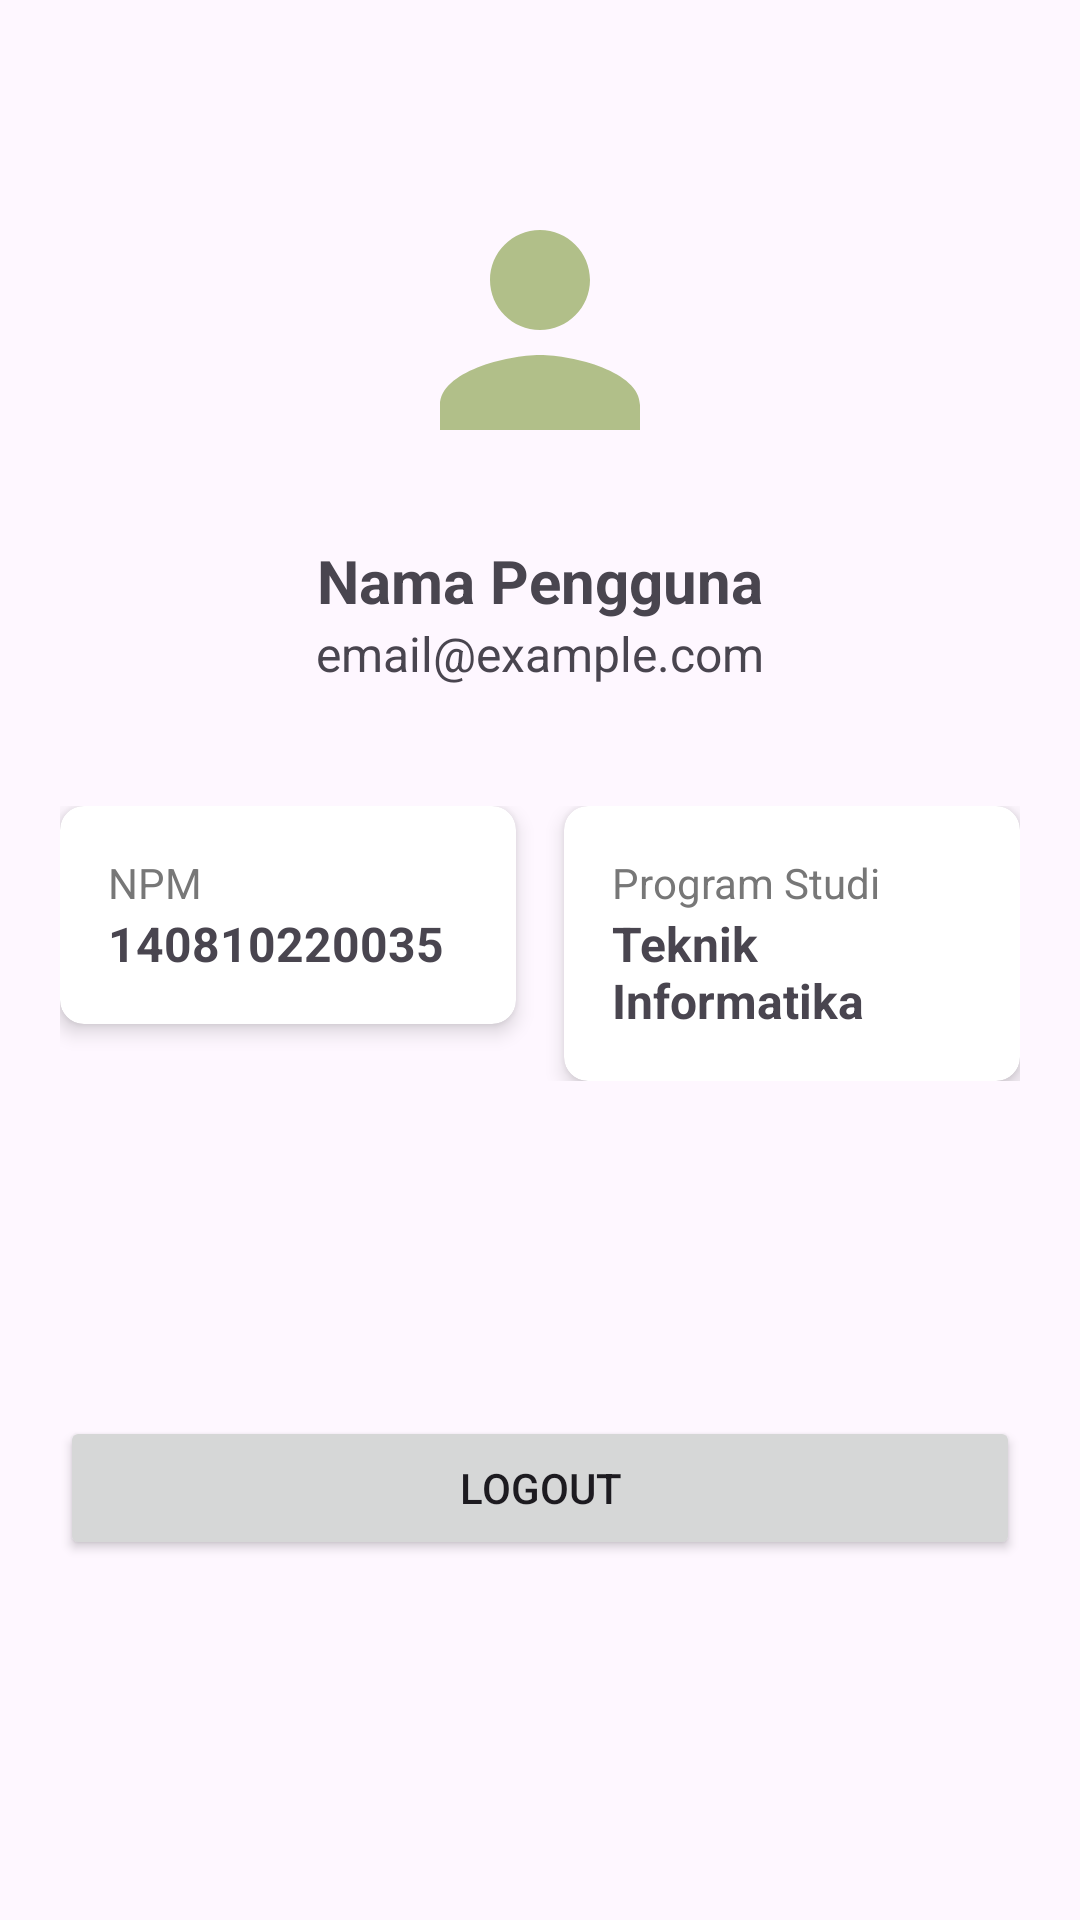

Icon click points for this 1080x1920 phone screenshot, format [x,y]:
profile: [540,330]
